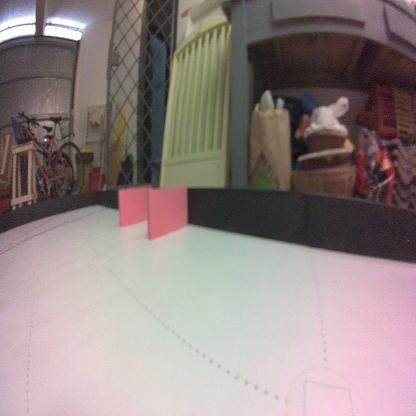magenta: (148, 185, 187, 239), (117, 184, 150, 227)
